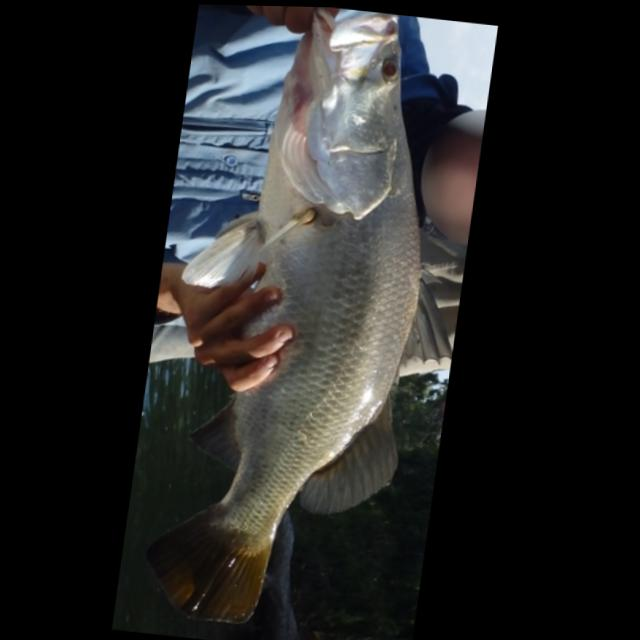Seabass: (131, 4, 497, 640)
